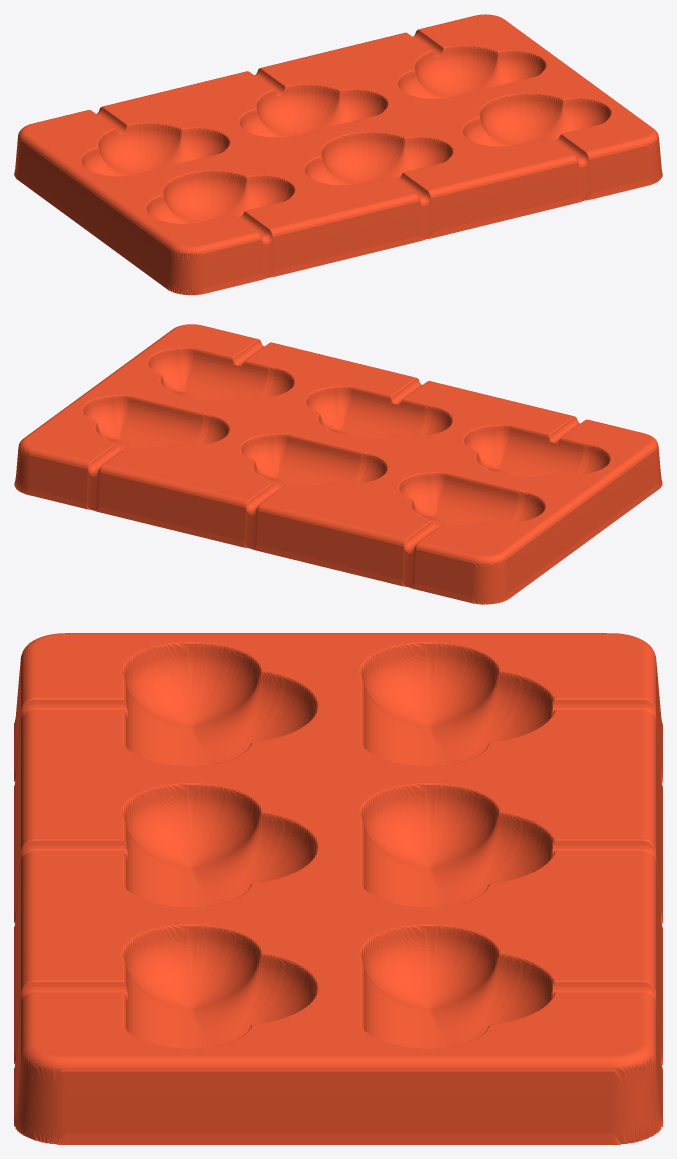
The model's file is mold.glb.
The picture shows the model from 3 angles, top to bottom: view 1: azimuth 30°, elevation 25°; view 2: azimuth 150°, elevation 25°; view 3: azimuth 270°, elevation 25°; orthographic projection. The views are drawn at different scales.
Parts seen in each view (by area): view 1: geometry_0; view 2: geometry_0; view 3: geometry_0.
Part boxes in pixels (bbox=[...]): geometry_0: bbox=[14, 14, 662, 295]; geometry_0: bbox=[14, 324, 662, 604]; geometry_0: bbox=[14, 633, 662, 1144].
Bounding box in the file's own units: 0.1824 × 0.0155 × 0.1139.
